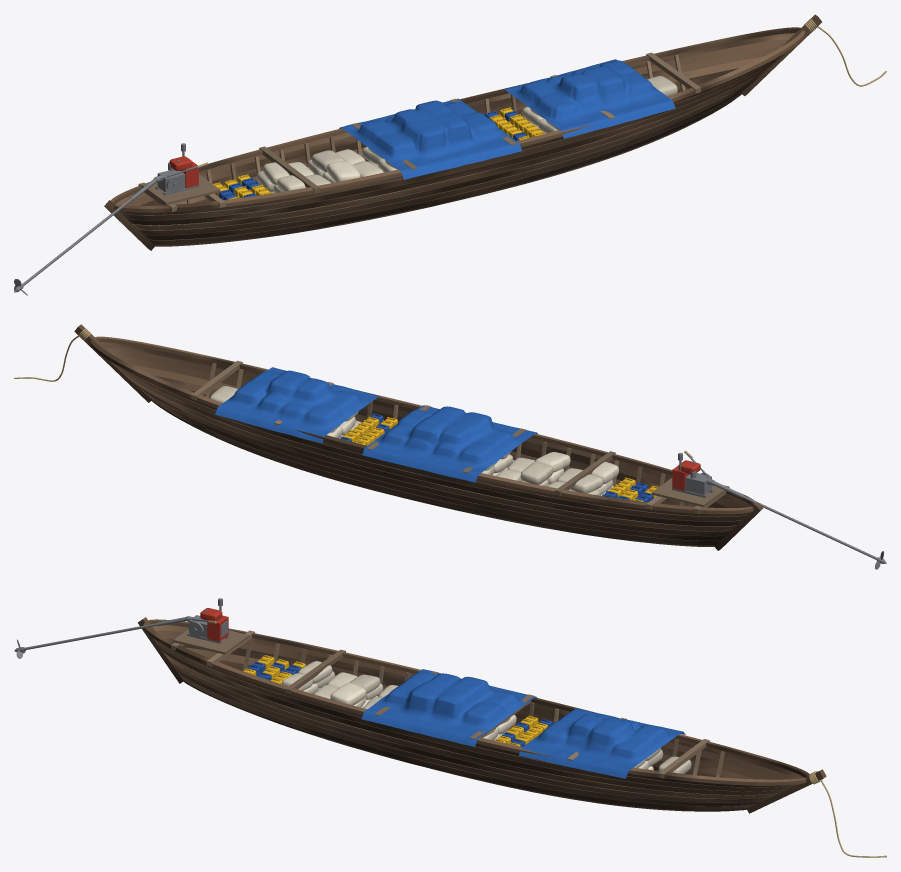
File: baleiniere-sacs.glb
3 renders of one model, top to bottom at view 1: azimuth 30°, elevation 25°; view 2: azimuth 150°, elevation 25°; view 3: azimuth 330°, elevation 25°, orthographic. The views are drawn at different scales.
Visible parts, largest first — view 1: bache_1, bache_2, plat_bord, sacs, bordage_tribord_5, bordage_tribord_6, bordage_tribord_4, bordage_tribord_3, bordage_tribord_2, bordage_tribord_1, traverses, bordage_babord_6 (+11 smaller); view 2: bache_1, bache_2, plat_bord, sacs, bordage_babord_5, bordage_babord_6, bordage_babord_4, bordage_babord_3, bordage_babord_2, bordage_babord_1, traverses, bordage_tribord_6 (+12 smaller); view 3: bache_1, bache_2, plat_bord, bordage_tribord_5, sacs, bordage_tribord_6, bordage_tribord_4, bordage_tribord_3, bordage_tribord_2, bordage_tribord_1, traverses, bordage_babord_6 (+12 smaller).
Part boxes in pixels (bbox=[...]): bache_1: bbox=[339, 98, 521, 179]; bache_2: bbox=[504, 59, 675, 138]; plat_bord: bbox=[111, 27, 805, 212]; sacs: bbox=[257, 76, 677, 193]; bordage_tribord_5: bbox=[126, 57, 780, 225]; bordage_tribord_6: bbox=[121, 53, 784, 220]; bordage_tribord_4: bbox=[132, 65, 771, 230]; bordage_tribord_3: bbox=[137, 73, 763, 234]; bordage_tribord_2: bbox=[143, 80, 755, 239]; bordage_tribord_1: bbox=[149, 88, 746, 244]; traverses: bbox=[138, 52, 700, 211]; bordage_babord_6: bbox=[126, 39, 788, 205]; bache_1: bbox=[362, 405, 537, 482]; bache_2: bbox=[215, 367, 379, 443]; plat_bord: bbox=[90, 336, 756, 514]; sacs: bbox=[210, 386, 619, 495]; bordage_babord_5: bbox=[114, 365, 741, 526]; bordage_babord_6: bbox=[110, 361, 747, 521]; bordage_babord_4: bbox=[120, 371, 736, 531]; bordage_babord_3: bbox=[131, 381, 730, 535]; bordage_babord_2: bbox=[139, 388, 725, 540]; bordage_babord_1: bbox=[146, 394, 720, 545]; traverses: bbox=[191, 360, 729, 513]; bordage_tribord_6: bbox=[106, 348, 744, 507]; bache_1: bbox=[361, 669, 536, 746]; bache_2: bbox=[518, 708, 685, 778]; plat_bord: bbox=[143, 619, 809, 785]; bordage_tribord_5: bbox=[157, 644, 787, 795]; sacs: bbox=[282, 661, 691, 773]; bordage_tribord_6: bbox=[153, 638, 796, 791]; bordage_tribord_4: bbox=[162, 651, 779, 798]; bordage_tribord_3: bbox=[167, 658, 771, 802]; bordage_tribord_2: bbox=[173, 666, 763, 806]; bordage_tribord_1: bbox=[178, 673, 754, 810]; traverses: bbox=[171, 629, 709, 778]; bordage_babord_6: bbox=[156, 630, 795, 779].
Bounding box in the file's own units: 20.66 × 2.16 × 2.68.
